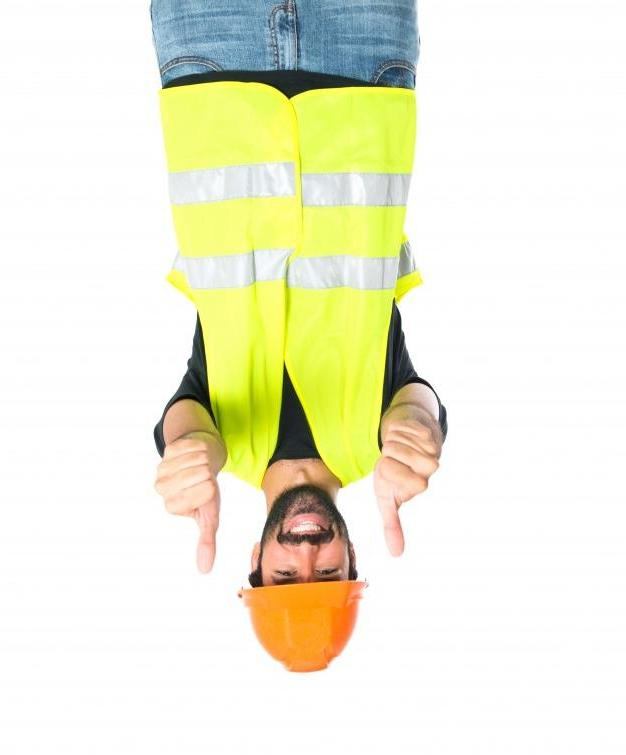thumbsdown: (153, 437, 222, 575), (375, 420, 440, 557)
